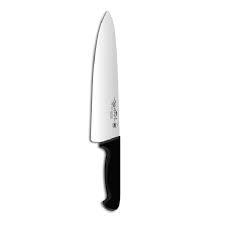Knife: (89, 10, 120, 211)
